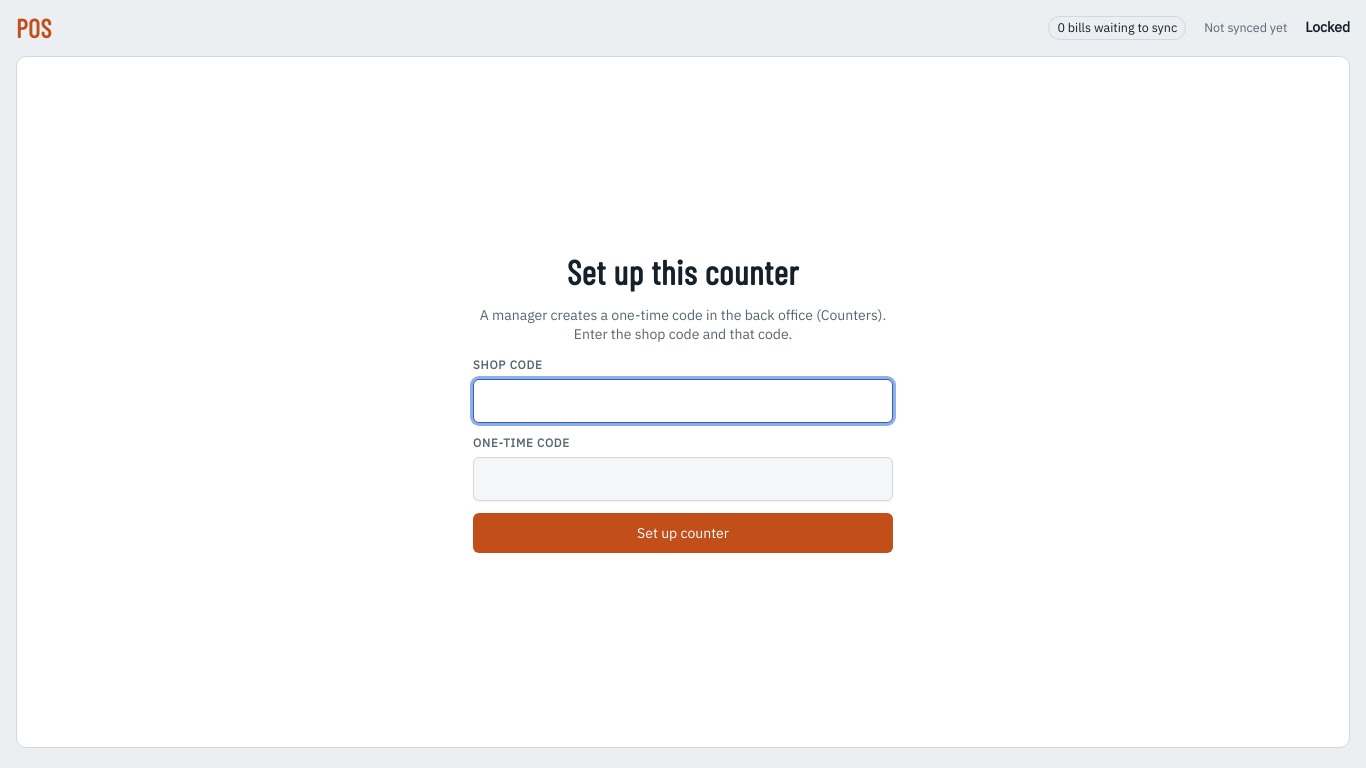
Test: counter screens › enroll a new counter with the shop code and a one-time code, then pull and show the staff
The width and height of the screenshot is (1366, 768).
Type "delux" into the field labelled "Shop code".
click(683, 401); type("delux")  # box [473,379,893,423]
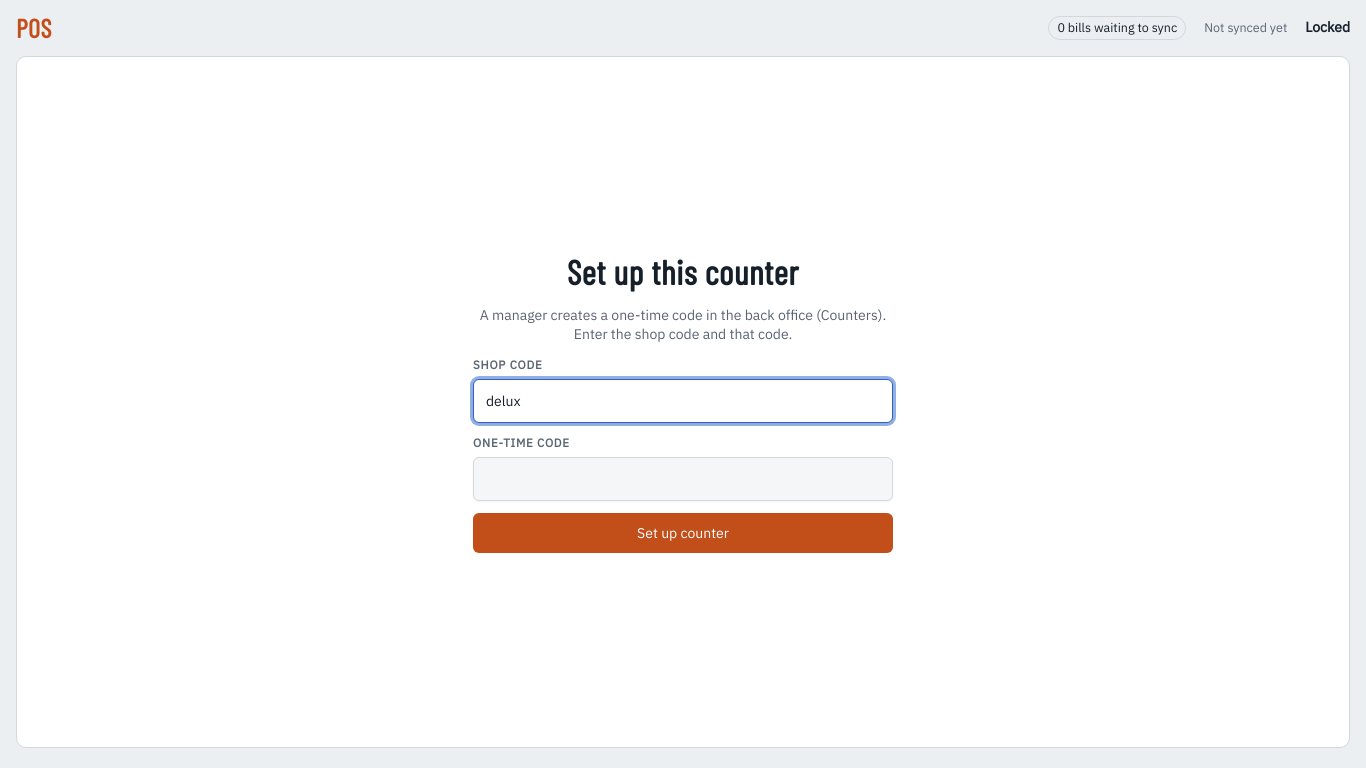
Type "K7Q2-M9XD" into the field labelled "One-time code".
click(683, 479); type("K7Q2-M9XD")  # box [473,457,893,501]
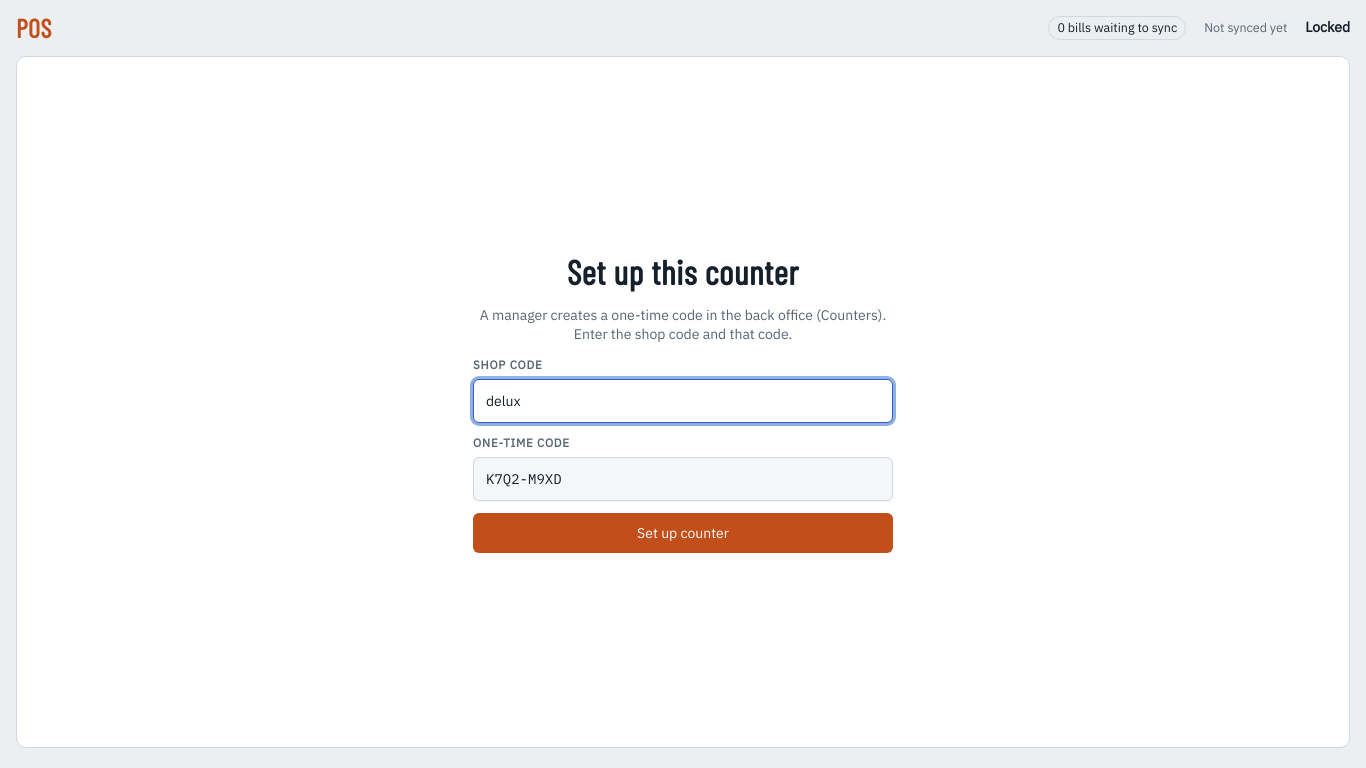
Click the button "Set up counter".
click(683, 533)  # box [473,513,893,553]
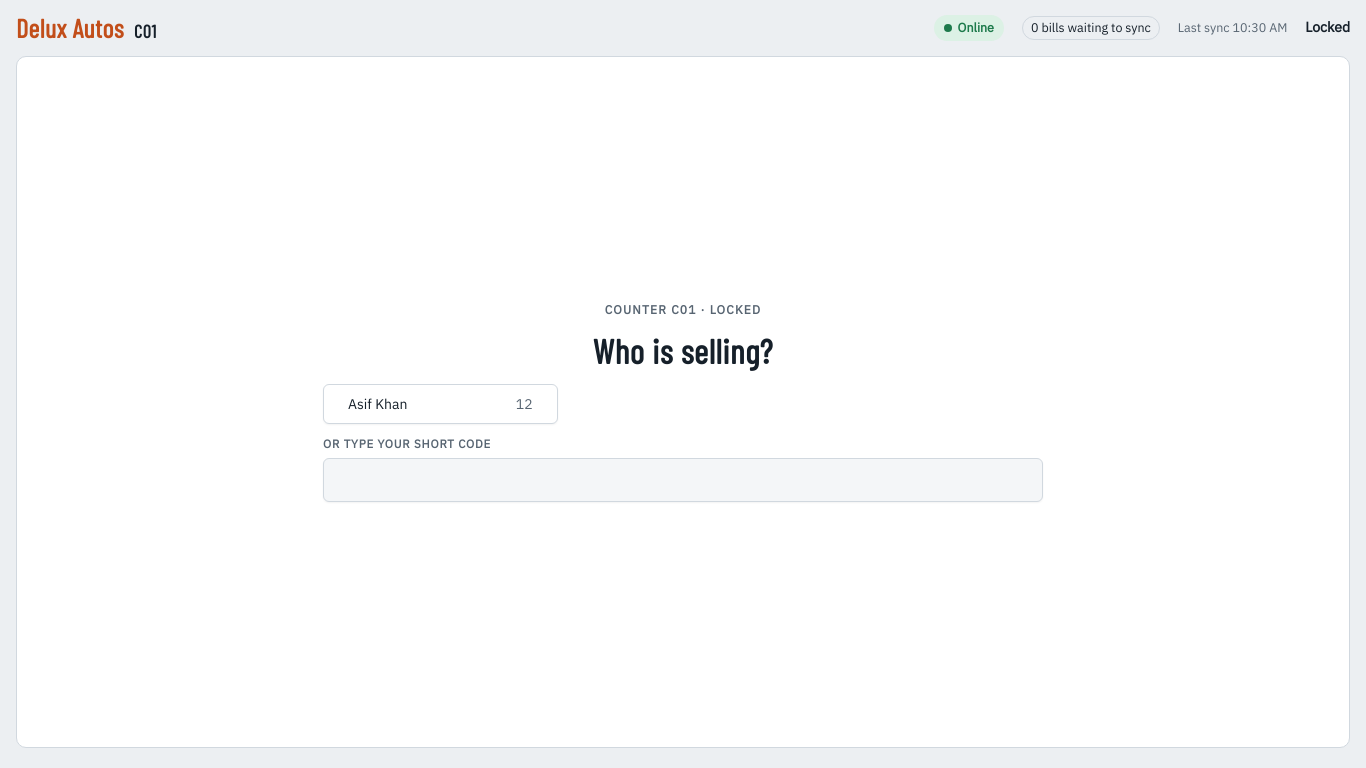
Result: the button "Asif Khan 12" is shown at [323,384,558,424]
